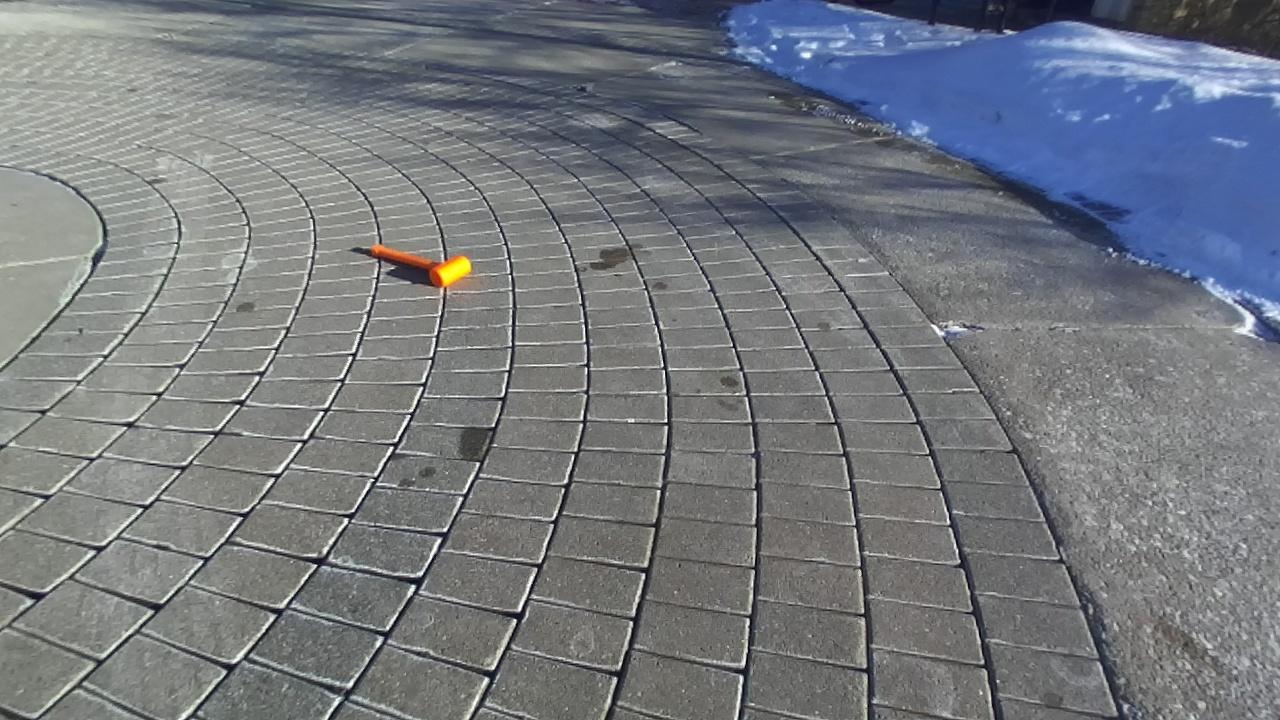mallet: (368, 245, 471, 287)
